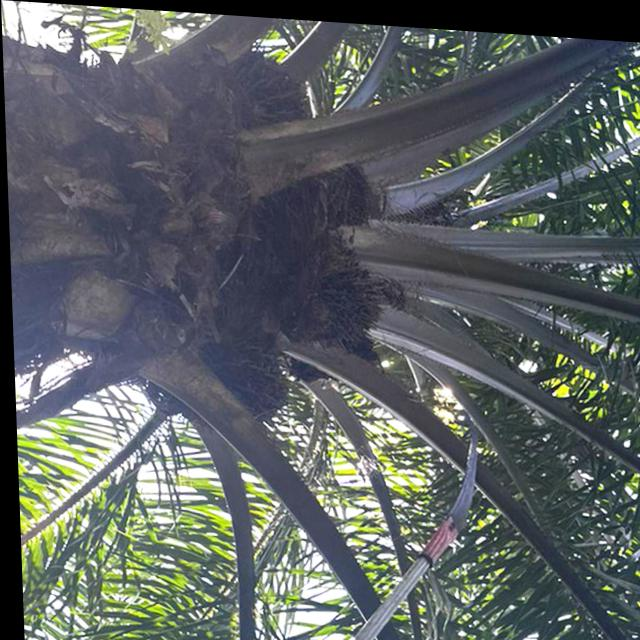unripe: (283, 241, 386, 356), (166, 347, 290, 430), (220, 39, 309, 136), (300, 157, 378, 236)
